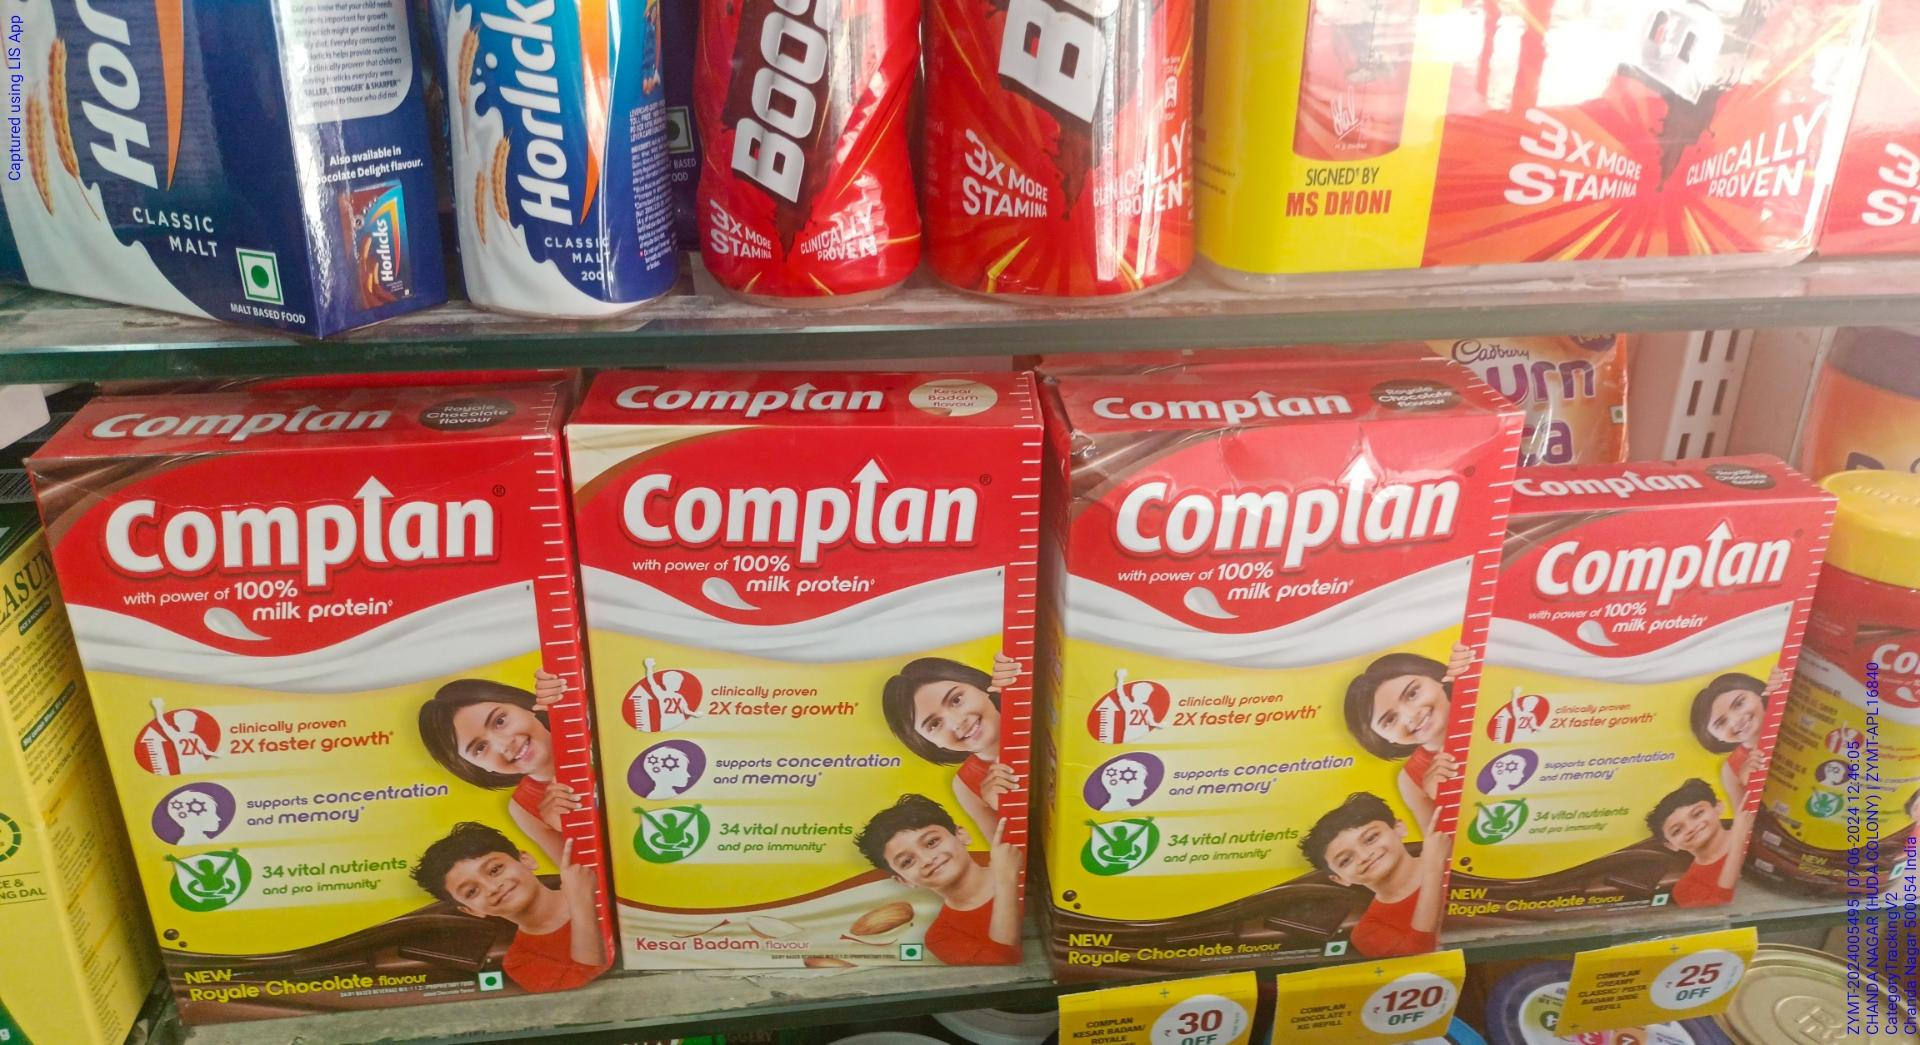COMPLAN_CHOCOLATE_200_GMS_PACK: (1481, 499, 1814, 920)
COMPLAN_CHOCOLATE_500_GMS_PACK: (59, 431, 588, 999), (1072, 402, 1471, 959)
COMPLAN_KESAR_BADAM_500_GMS_PACK: (604, 422, 1051, 976)
